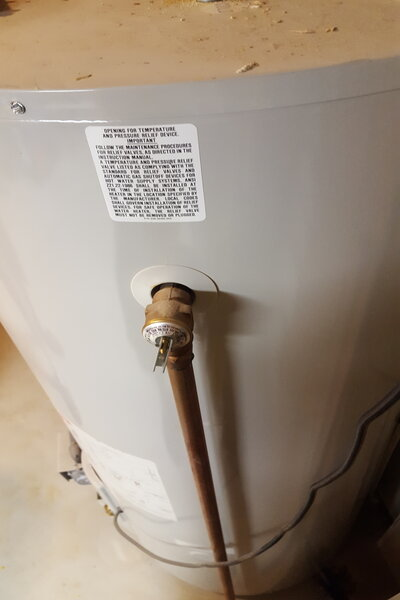valve: (141, 282, 198, 371)
